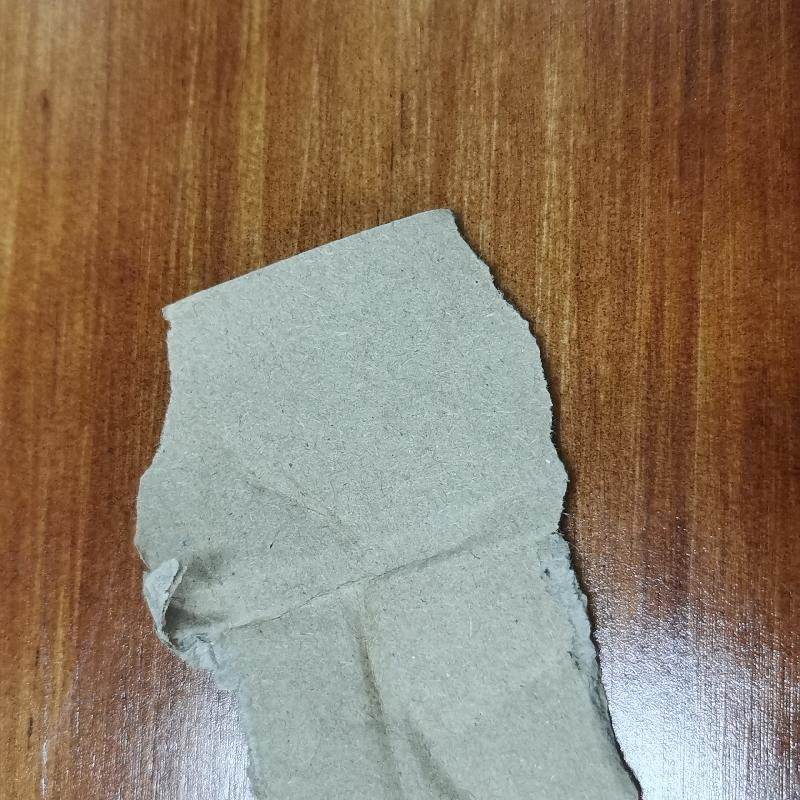boxes: (127, 204, 648, 799)
